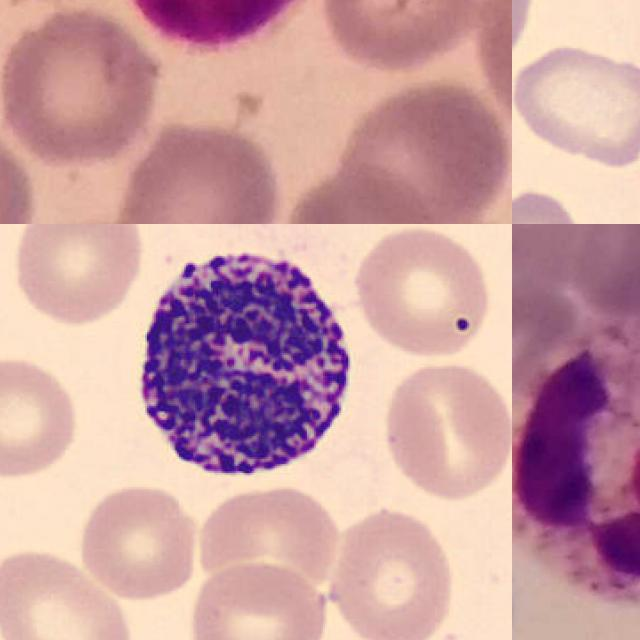Basophil: (115, 237, 364, 501)
Lymphocyte: (113, 0, 336, 54)
Neutrophil: (512, 329, 640, 604)
RBC: (349, 224, 495, 360), (379, 358, 512, 502), (323, 502, 460, 640), (72, 480, 206, 603), (512, 40, 640, 164), (8, 224, 146, 328), (0, 543, 140, 640), (184, 559, 331, 640), (0, 351, 83, 481)
